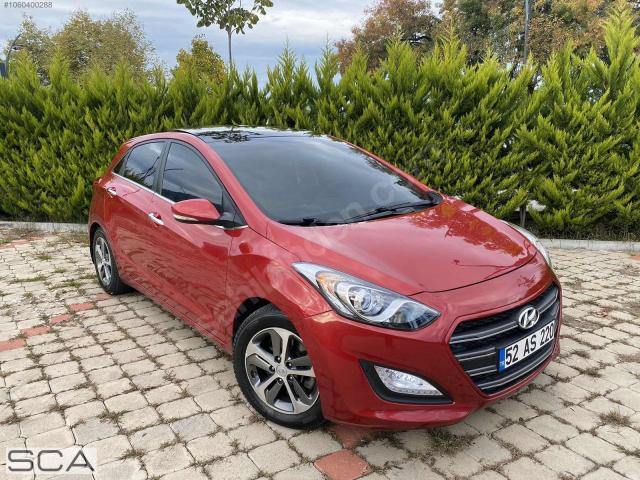plaka: (500, 320, 554, 370)
